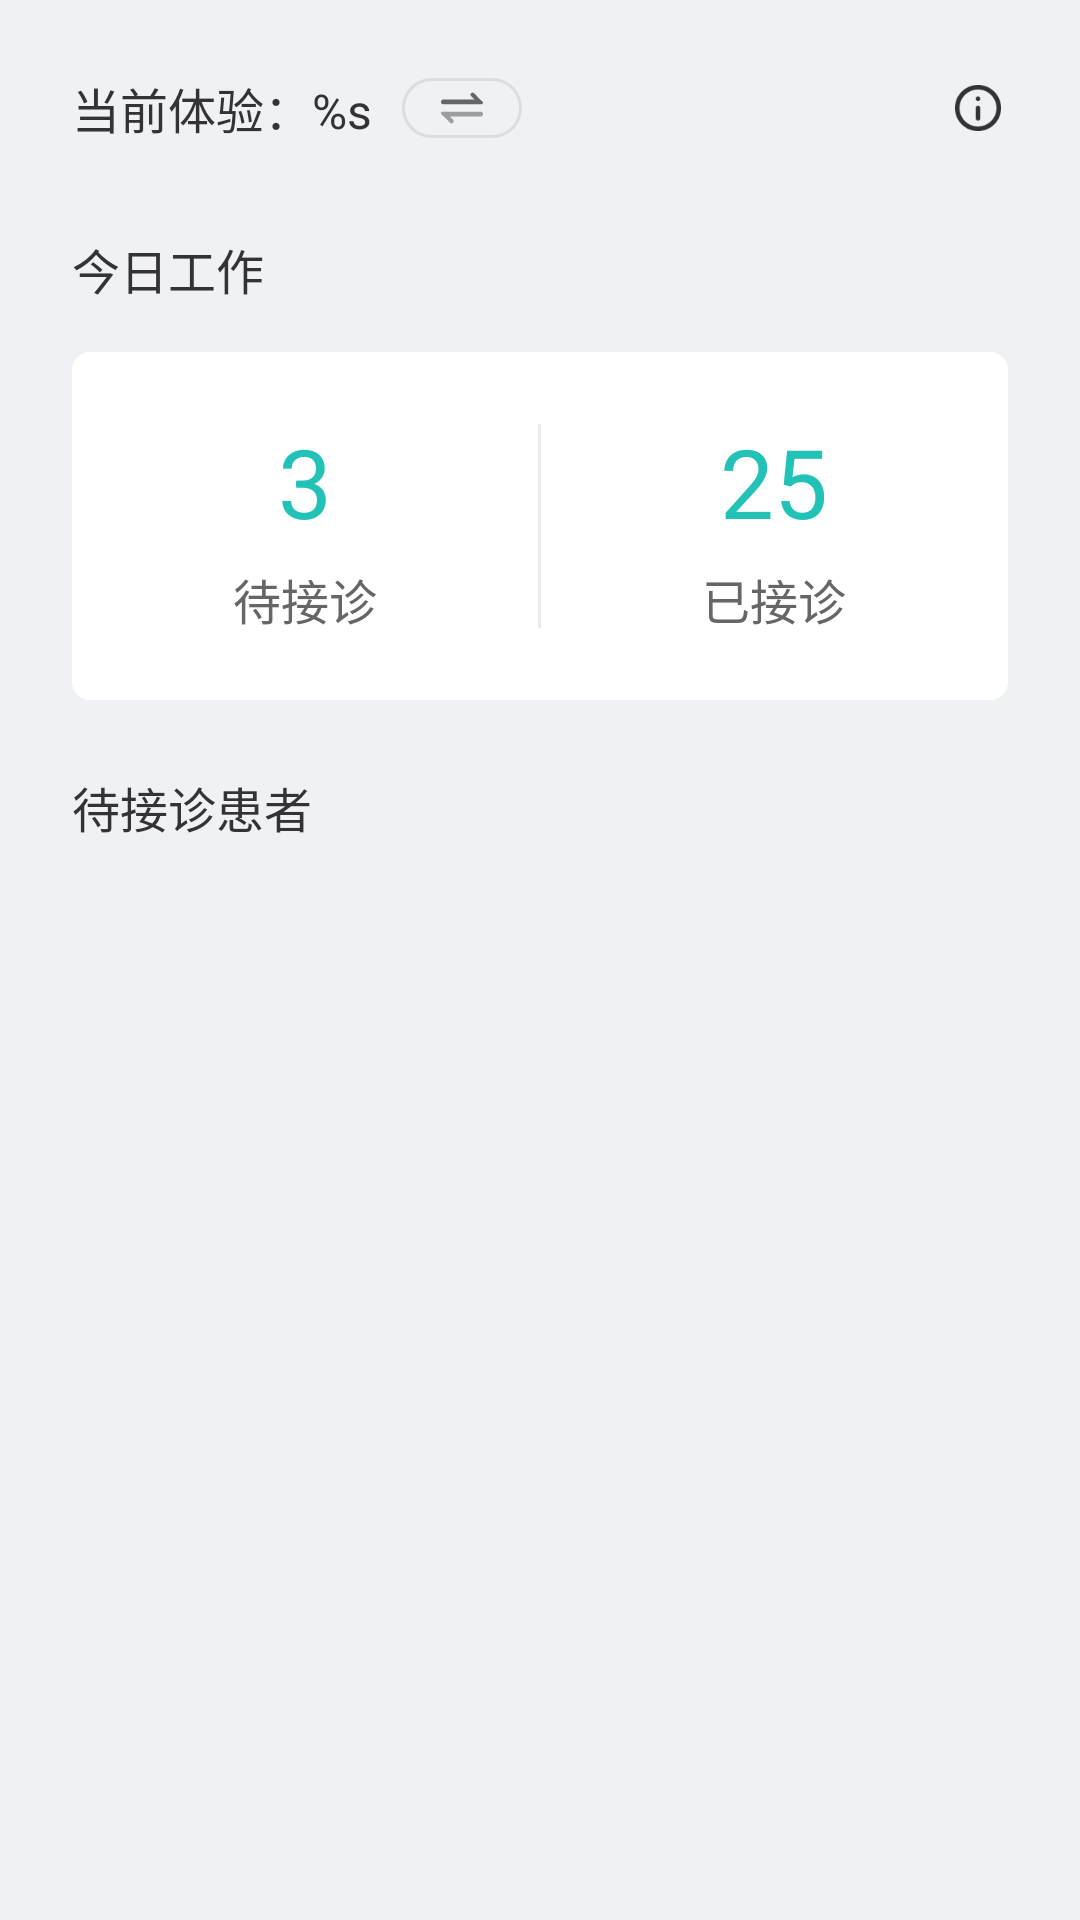

Screen size 1080px x 1920px. Icon name, then its box in pixels as (x1, y1, x2, y2):
change role: (441, 92, 483, 124)
demo tip: (955, 85, 1001, 131)
